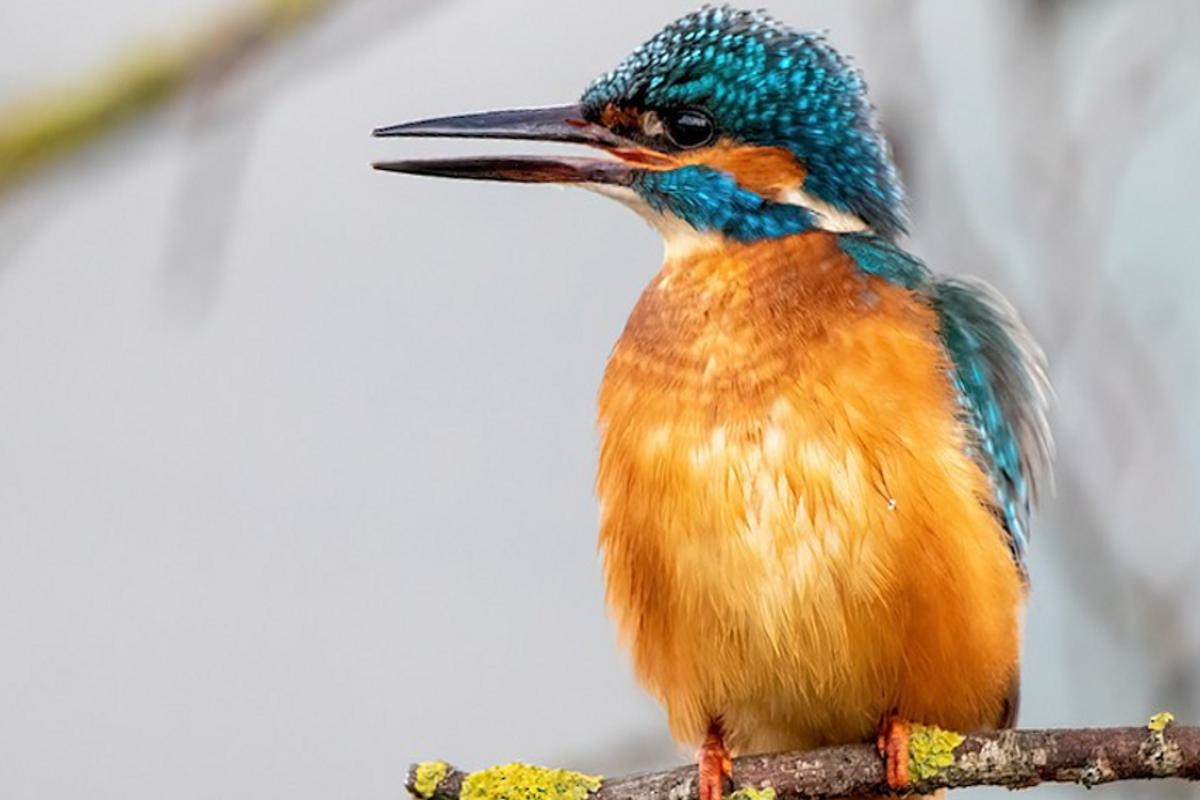kingfisher: (396, 11, 1124, 775)
